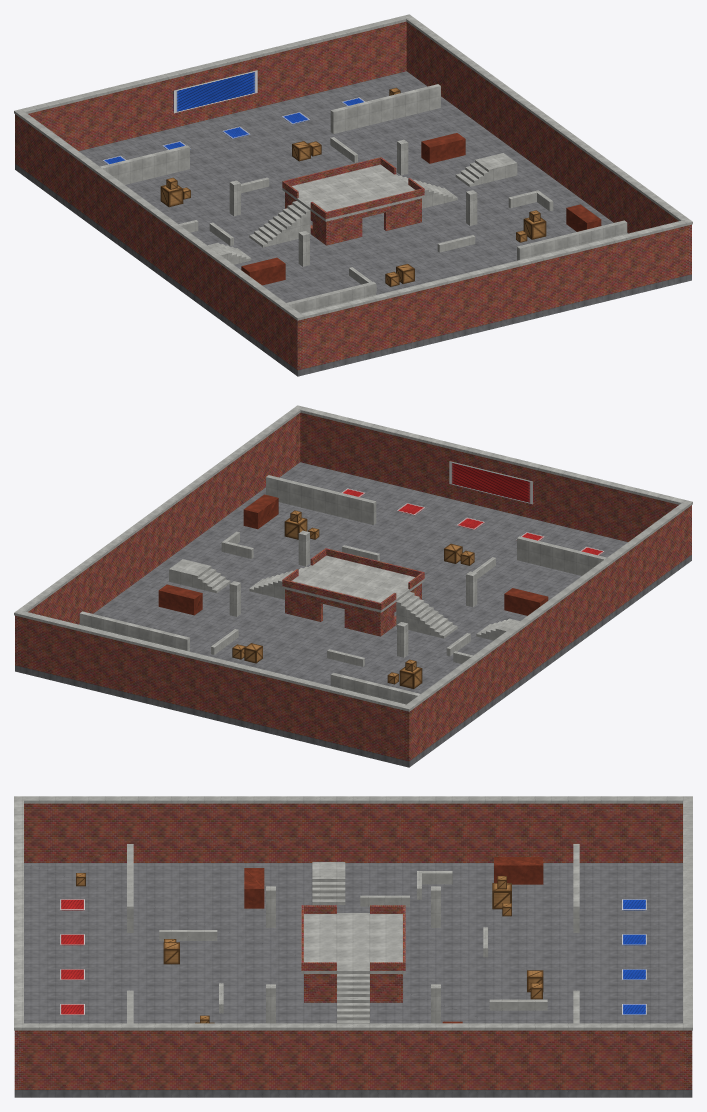
Rendered from tdm_map.glb.
The picture shows the model from 3 angles, top to bottom: view 1: azimuth 30°, elevation 25°; view 2: azimuth 150°, elevation 25°; view 3: azimuth 270°, elevation 25°; orthographic projection. The views are drawn at different scales.
Visible parts, largest first — view 1: TDM_Map_1_18, TDM_Map_5_14, TDM_Map_3_16, TDM_Map_2_17, TDM_Map_4_15, TDM_Map_6_13, TDM_Map_11_8, TDM_Map_14_5, TDM_Map_7_12, TDM_Ma_19, TDM_Map_9_10, TDM_Map_10_9 (+4 smaller); view 2: TDM_Map_1_18, TDM_Map_3_16, TDM_Map_5_14, TDM_Map_2_17, TDM_Map_4_15, TDM_Map_6_13, TDM_Map_11_8, TDM_Ma_19, TDM_Map_14_5, TDM_Map_9_10, TDM_Map_8_11, TDM_Ma_1_1 (+2 smaller); view 3: TDM_Map_1_18, TDM_Map_4_15, TDM_Map_2_17, TDM_Map_6_13, TDM_Map_11_8, TDM_Map_14_5, TDM_Ma_19, TDM_Map_9_10, TDM_Map_10_9, TDM_Ma_1_1, TDM_Map_13_6, TDM_Map_7_12 (+3 smaller).
Boxes of the visible parts, x1=… form: TDM_Map_1_18: x1=15, y1=71, x2=691, y2=376; TDM_Map_5_14: x1=294, y1=225, x2=691, y2=369; TDM_Map_3_16: x1=15, y1=21, x2=406, y2=164; TDM_Map_2_17: x1=15, y1=114, x2=303, y2=370; TDM_Map_4_15: x1=406, y1=22, x2=691, y2=275; TDM_Map_6_13: x1=14, y1=14, x2=692, y2=320; TDM_Map_11_8: x1=100, y1=84, x2=627, y2=313; TDM_Map_14_5: x1=282, y1=164, x2=424, y2=221; TDM_Map_7_12: x1=102, y1=70, x2=364, y2=164; TDM_Ma_19: x1=282, y1=157, x2=424, y2=245; TDM_Map_9_10: x1=241, y1=133, x2=601, y2=285; TDM_Map_10_9: x1=160, y1=87, x2=546, y2=286; TDM_Map_1_18: x1=15, y1=462, x2=691, y2=767; TDM_Map_3_16: x1=15, y1=615, x2=412, y2=761; TDM_Map_5_14: x1=300, y1=412, x2=691, y2=556; TDM_Map_2_17: x1=403, y1=505, x2=691, y2=760; TDM_Map_4_15: x1=15, y1=413, x2=300, y2=666; TDM_Map_6_13: x1=14, y1=405, x2=692, y2=711; TDM_Map_11_8: x1=79, y1=475, x2=606, y2=704; TDM_Ma_19: x1=282, y1=548, x2=424, y2=636; TDM_Map_14_5: x1=282, y1=555, x2=424, y2=612; TDM_Map_9_10: x1=158, y1=494, x2=548, y2=615; TDM_Map_8_11: x1=342, y1=461, x2=604, y2=555; TDM_Ma_1_1: x1=249, y1=566, x2=457, y2=638; TDM_Map_1_18: x1=14, y1=863, x2=692, y2=1097; TDM_Map_4_15: x1=14, y1=1030, x2=691, y2=1089; TDM_Map_2_17: x1=24, y1=803, x2=682, y2=862; TDM_Map_6_13: x1=14, y1=796, x2=692, y2=1030; TDM_Map_11_8: x1=127, y1=844, x2=579, y2=1023; TDM_Map_14_5: x1=301, y1=913, x2=405, y2=973; TDM_Ma_19: x1=301, y1=905, x2=405, y2=1002; TDM_Map_9_10: x1=244, y1=857, x2=543, y2=1023; TDM_Map_10_9: x1=76, y1=873, x2=543, y2=1023; TDM_Ma_1_1: x1=337, y1=974, x2=369, y2=1023; TDM_Map_13_6: x1=312, y1=862, x2=345, y2=904; TDM_Map_7_12: x1=622, y1=899, x2=646, y2=1014.
Bounding box in the file's own units: 66.2 × 9.4 × 82.2.
19 materials, 19 textured.
